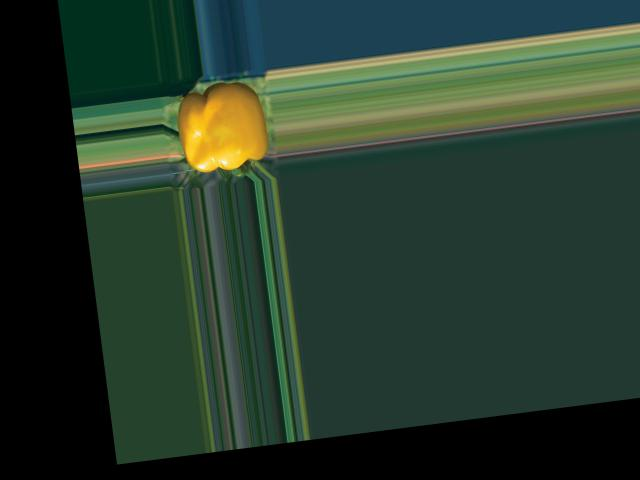bell_pepper: (166, 76, 277, 184)
